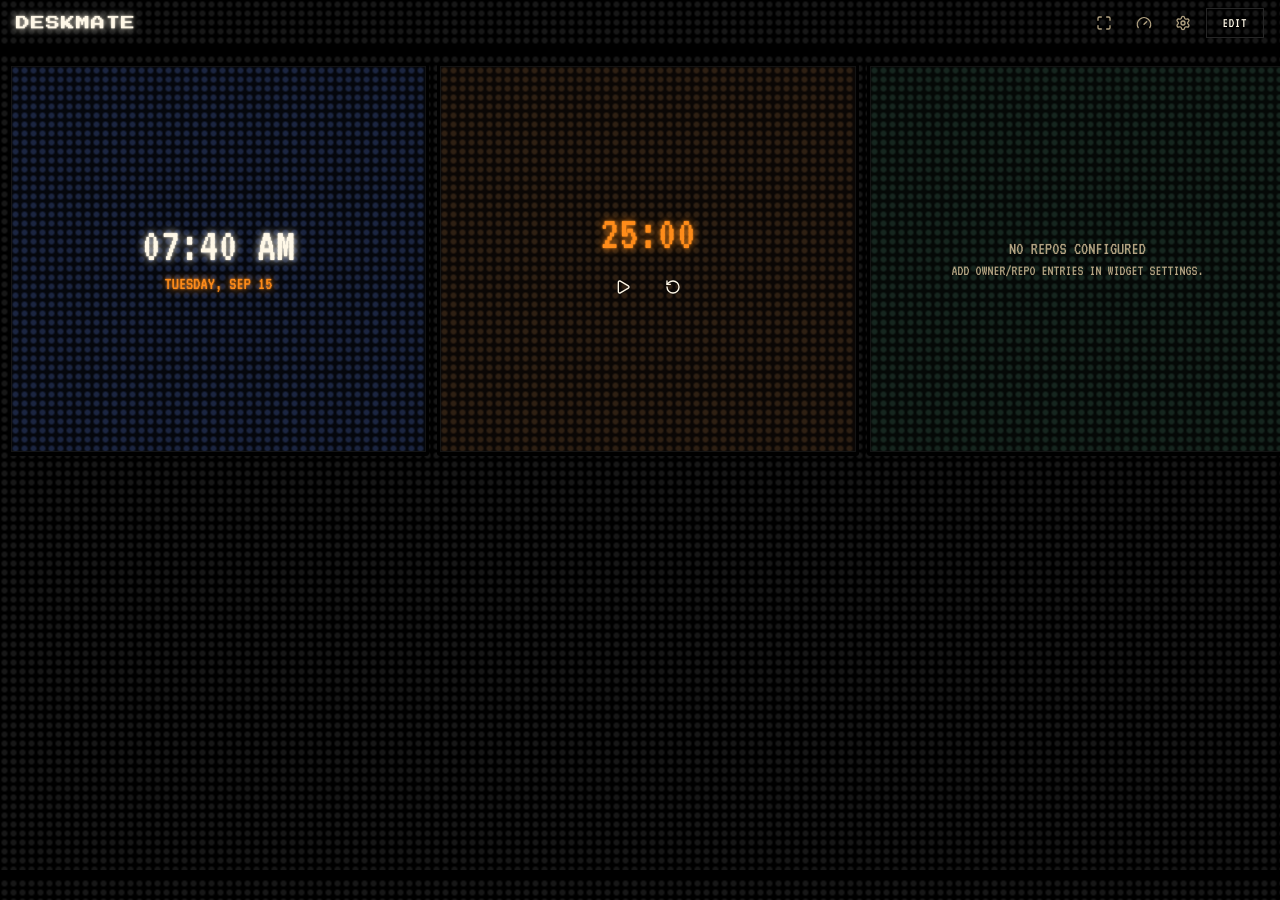
it: App shell › renders an always-visible Edit button and tucks Export/Import behind the settings menu
Check: the button "Edit" is shown, box top-left (1206, 8), bottom-right (1264, 38)
Check: the text "Export" is not shown
Click the button named "Settings menu" at (1183, 23), box top-left (1168, 8), bottom-right (1198, 38)
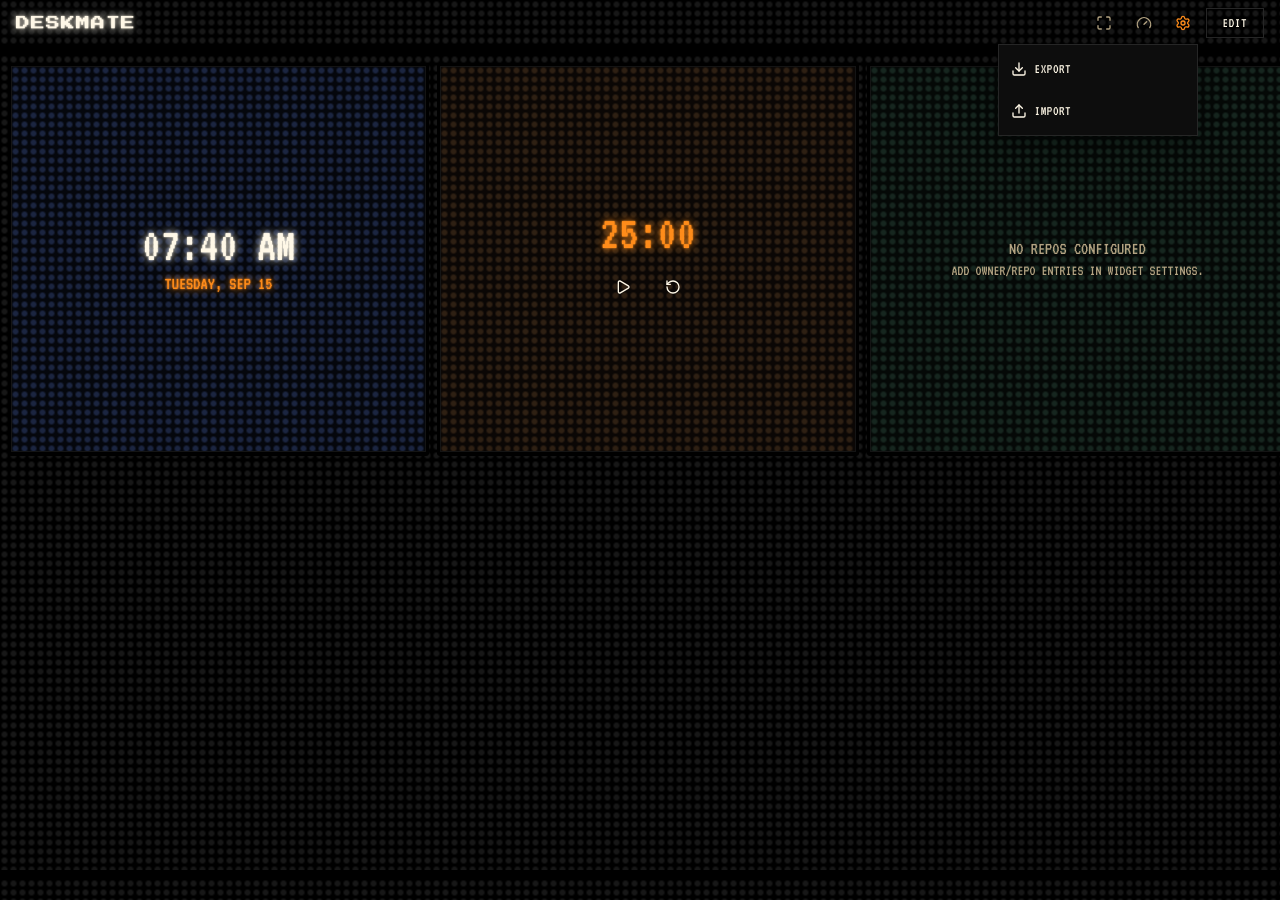
Check: the button "Export" is shown, box top-left (1003, 49), bottom-right (1193, 89)
Check: the button "Import" is shown, box top-left (1003, 91), bottom-right (1193, 131)
